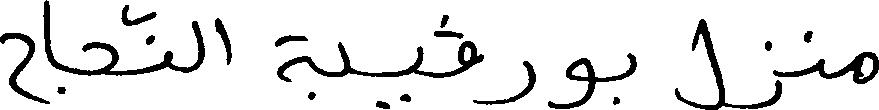X: (677, 14, 723, 109), (725, 36, 780, 109), (122, 0, 172, 79), (476, 43, 534, 109), (60, 37, 115, 98), (278, 30, 316, 104), (0, 28, 32, 104), (549, 53, 592, 109), (459, 28, 474, 107), (855, 47, 878, 88), (218, 13, 230, 69), (194, 16, 201, 74), (339, 37, 348, 81), (413, 41, 421, 79), (628, 48, 635, 81), (817, 54, 822, 81), (46, 0, 47, 109)
